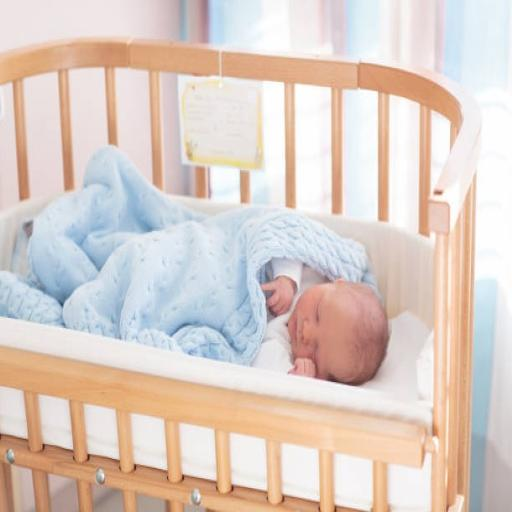baby: (262, 262, 389, 384)
crib: (0, 40, 480, 511)
